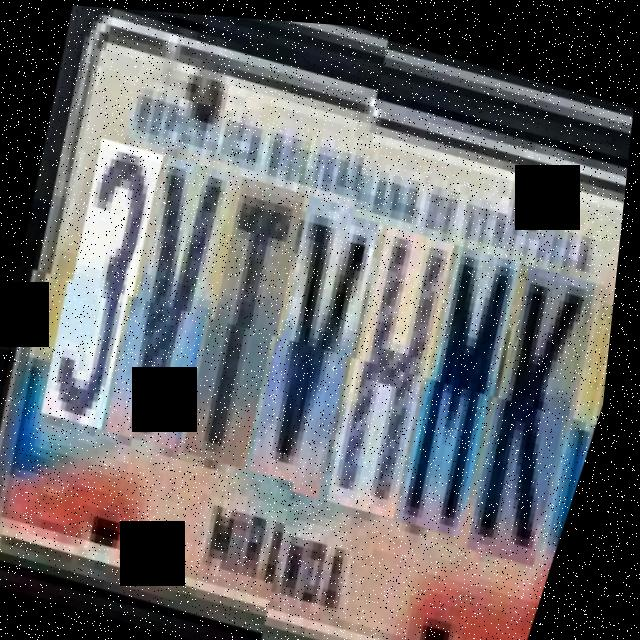3: (17, 139, 185, 438)
H: (306, 215, 478, 515)
K: (445, 252, 621, 562)
M: (377, 233, 545, 533)
T: (160, 176, 328, 475)
V: (84, 156, 262, 459), (226, 194, 403, 496)
